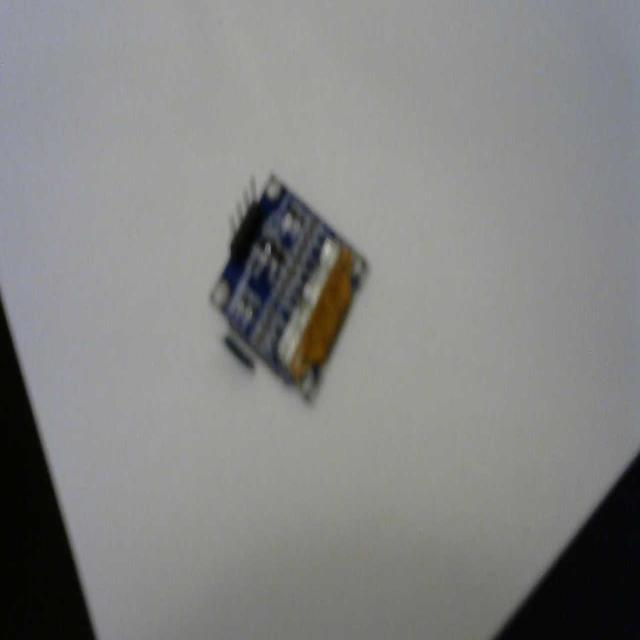oled: (201, 162, 377, 408)
